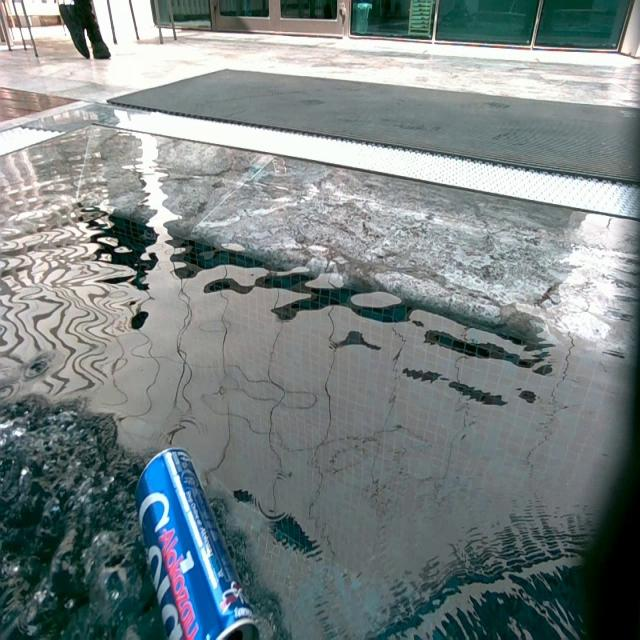Cans: (134, 446, 260, 640)
